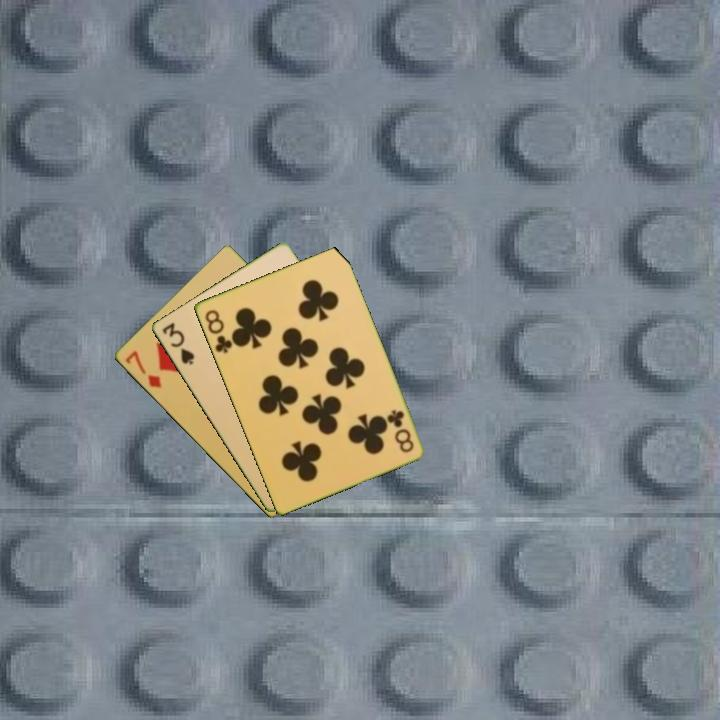3s: (158, 319, 197, 368)
7d: (121, 347, 164, 391)
8c: (201, 306, 235, 356), (383, 406, 416, 456)
